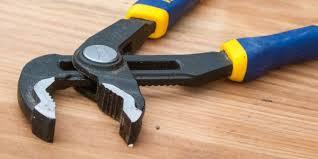pliers: (16, 0, 317, 144)
